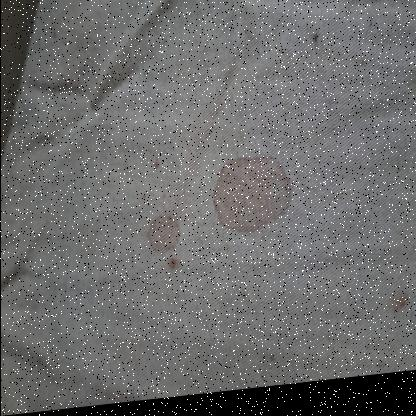spot: (204, 139, 300, 247), (142, 209, 182, 265), (389, 292, 412, 328), (260, 346, 280, 378), (353, 56, 374, 84), (318, 326, 333, 359), (308, 25, 322, 59), (150, 158, 161, 180), (166, 256, 178, 275)
